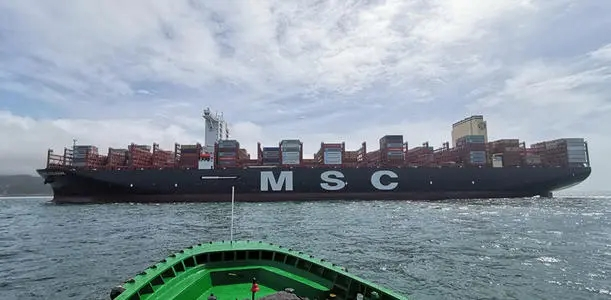Cargoship: (29, 107, 596, 202)
